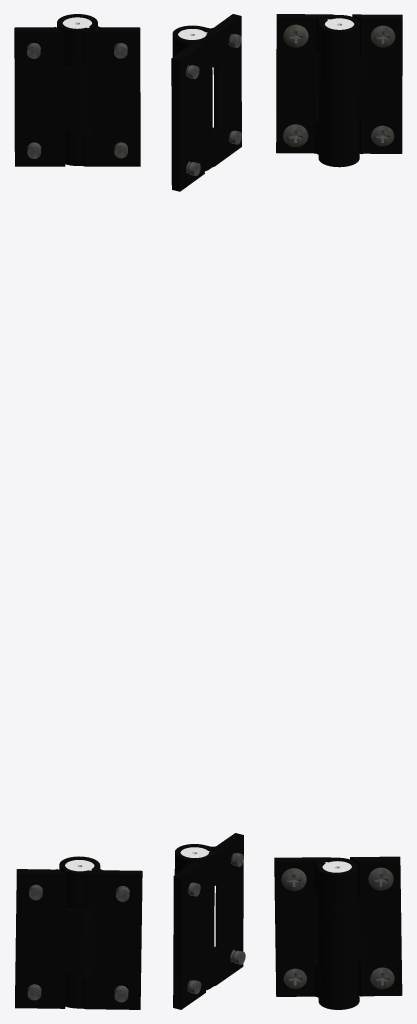
The model's file is charniere.glb.
The picture shows the model from 3 angles, left to right: view 1: azimuth 90°, elevation 25°; view 2: azimuth 150°, elevation 25°; view 3: azimuth 270°, elevation 25°; orthographic projection. The views are drawn at different scales.
Parts seen in each view (by area): view 1: opening_door, Ensemble-Lantern, Ensemble-Lantern.002; view 2: opening_door, Ensemble-Lantern, Ensemble-Lantern.002; view 3: opening_door, Ensemble-Lantern, Ensemble-Lantern.002.
Boxes of the visible parts, x1,y1,x2,y2 form: opening_door: (14, 27, 91, 1008); Ensemble-Lantern: (57, 14, 140, 975); Ensemble-Lantern.002: (59, 856, 142, 1009); opening_door: (171, 43, 214, 1009); Ensemble-Lantern: (172, 14, 241, 958); Ensemble-Lantern.002: (174, 833, 245, 990); opening_door: (317, 14, 402, 996); Ensemble-Lantern: (276, 14, 359, 977); Ensemble-Lantern.002: (274, 857, 359, 1009).
Size of the model in its own units: 3.2 by 63.33 by 7.53.
4 materials, 1 textured.
